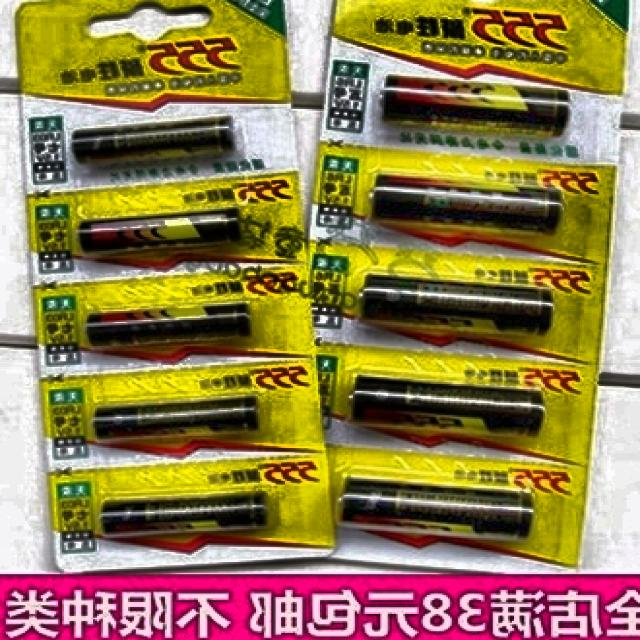Non-Valuable Waste - Batteries: (344, 479, 534, 540), (353, 377, 545, 434), (362, 276, 553, 333), (374, 176, 560, 234), (387, 78, 565, 137), (86, 304, 250, 346), (74, 120, 233, 162), (78, 211, 240, 251), (94, 400, 256, 439), (101, 497, 266, 535)
